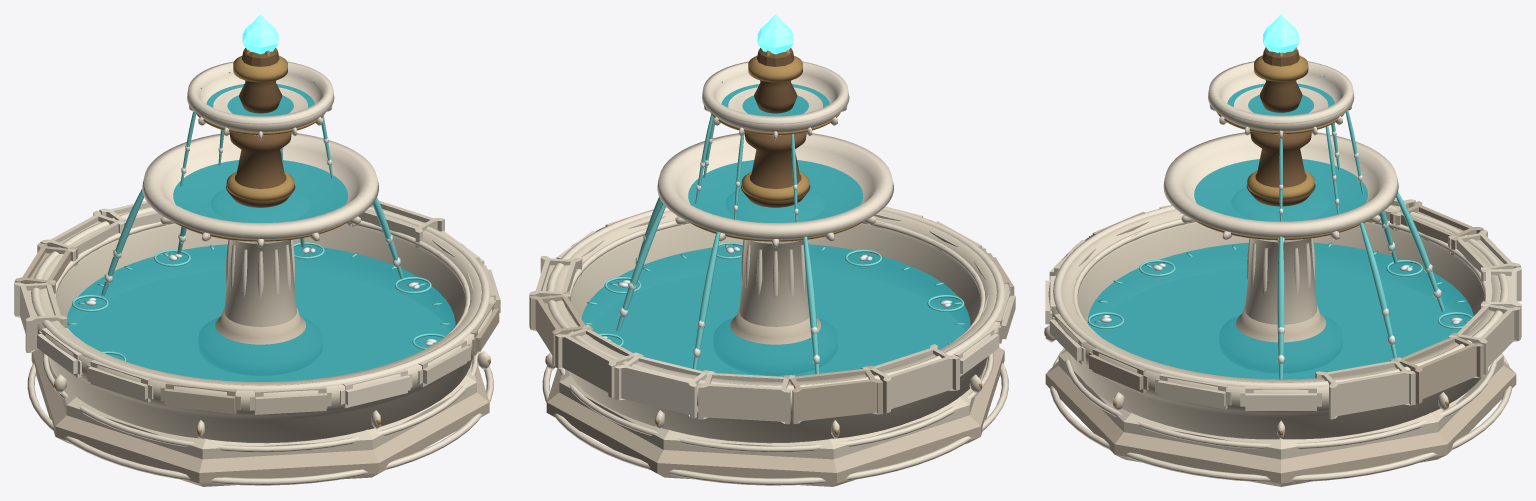
The model's file is fountain.glb.
The picture shows the model from 3 angles, left to right: view 1: azimuth 30°, elevation 25°; view 2: azimuth 150°, elevation 25°; view 3: azimuth 270°, elevation 25°; orthographic projection.
Visible parts, largest first — view 1: fountain_limestone, fountain_turquoisewater, fountain_limestonelight, fountain_limestoneshadow, fountain_bronze, fountain_waterhighlights, fountain_bronzeedge, fountain_carvedrelief, fountain_cyancrystal, fountain_foam; view 2: fountain_limestone, fountain_turquoisewater, fountain_limestonelight, fountain_limestoneshadow, fountain_waterhighlights, fountain_bronze, fountain_bronzeedge, fountain_carvedrelief, fountain_cyancrystal, fountain_foam; view 3: fountain_limestone, fountain_turquoisewater, fountain_limestonelight, fountain_limestoneshadow, fountain_waterhighlights, fountain_bronze, fountain_bronzeedge, fountain_carvedrelief, fountain_cyancrystal, fountain_foam.
Part boxes in pixels (box(x1,y1,x2,y2)): fountain_limestone: box(14, 200, 500, 459); fountain_turquoisewater: box(67, 84, 455, 381); fountain_limestonelight: box(27, 61, 493, 485); fountain_limestoneshadow: box(14, 224, 499, 486); fountain_bronze: box(226, 48, 295, 207); fountain_waterhighlights: box(67, 72, 450, 361); fountain_bronzeedge: box(54, 50, 490, 434); fountain_carvedrelief: box(54, 91, 490, 439); fountain_cyancrystal: box(242, 14, 278, 54); fountain_foam: box(84, 129, 436, 345); fountain_limestone: box(529, 209, 1015, 459); fountain_turquoisewater: box(581, 84, 970, 376); fountain_limestonelight: box(542, 61, 1008, 485); fountain_limestoneshadow: box(529, 253, 1014, 486); fountain_waterhighlights: box(584, 81, 965, 373); fountain_bronze: box(741, 48, 810, 207); fountain_bronzeedge: box(545, 50, 982, 434); fountain_carvedrelief: box(545, 91, 981, 439); fountain_cyancrystal: box(757, 14, 793, 54); fountain_foam: box(603, 138, 951, 364); fountain_limestone: box(1048, 199, 1520, 459); fountain_turquoisewater: box(1087, 83, 1473, 379); fountain_limestonelight: box(1045, 61, 1521, 482); fountain_limestoneshadow: box(1045, 201, 1516, 486); fountain_waterhighlights: box(1087, 76, 1472, 379); fountain_bronze: box(1246, 49, 1315, 206); fountain_bronzeedge: box(1044, 47, 1449, 435); fountain_carvedrelief: box(1044, 90, 1448, 439); fountain_cyancrystal: box(1263, 14, 1298, 53); fountain_foam: box(1099, 130, 1462, 363).
Size of the model in its own units: 3.31 by 2.89 by 3.3.
